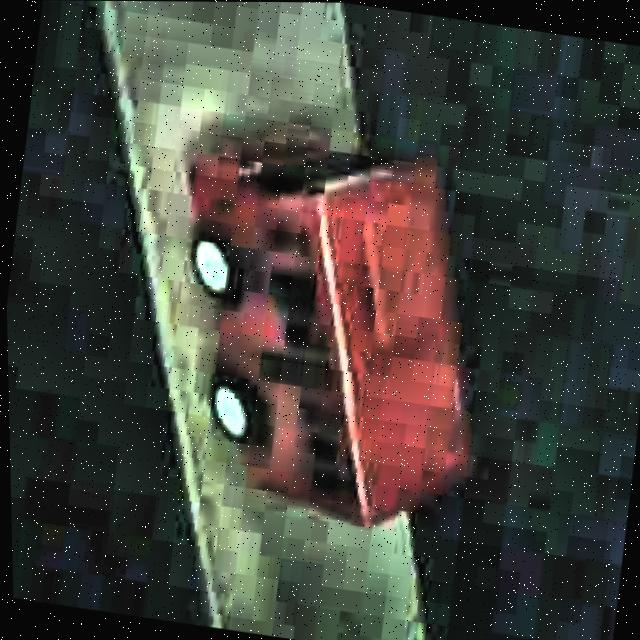bus: (134, 124, 516, 542)
